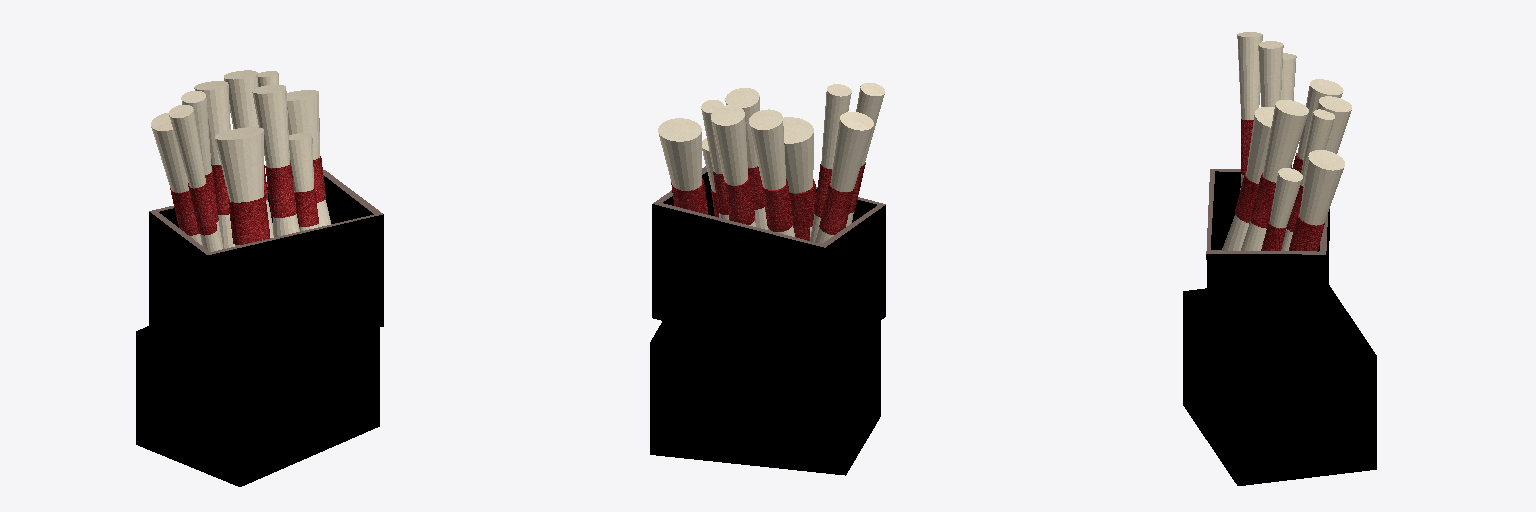
3 views of the same model, side by side, from view 1: azimuth 30°, elevation 25°; view 2: azimuth 150°, elevation 25°; view 3: azimuth 270°, elevation 25° (orthographic).
Parts seen in each view (by area): view 1: polySurface2; view 2: polySurface2; view 3: polySurface2.
Boxes of the visible parts, <box> form: polySurface2: <box>136,70,383,486</box>; polySurface2: <box>650,83,885,475</box>; polySurface2: <box>1183,32,1376,485</box>.
Size of the model in its own units: 6.89 by 11.48 by 5.63.
Materials: 5 (3 with a texture image).